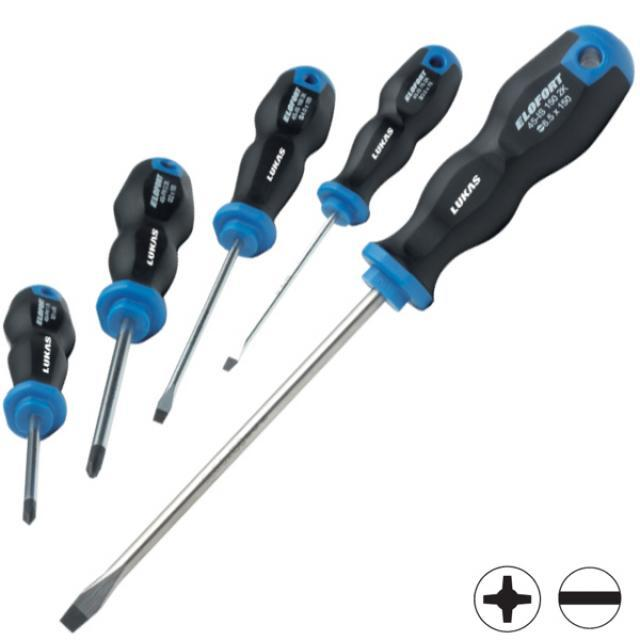screwdriver: (54, 20, 637, 636), (220, 41, 466, 374), (147, 59, 338, 424), (84, 155, 198, 484), (0, 275, 77, 531)
